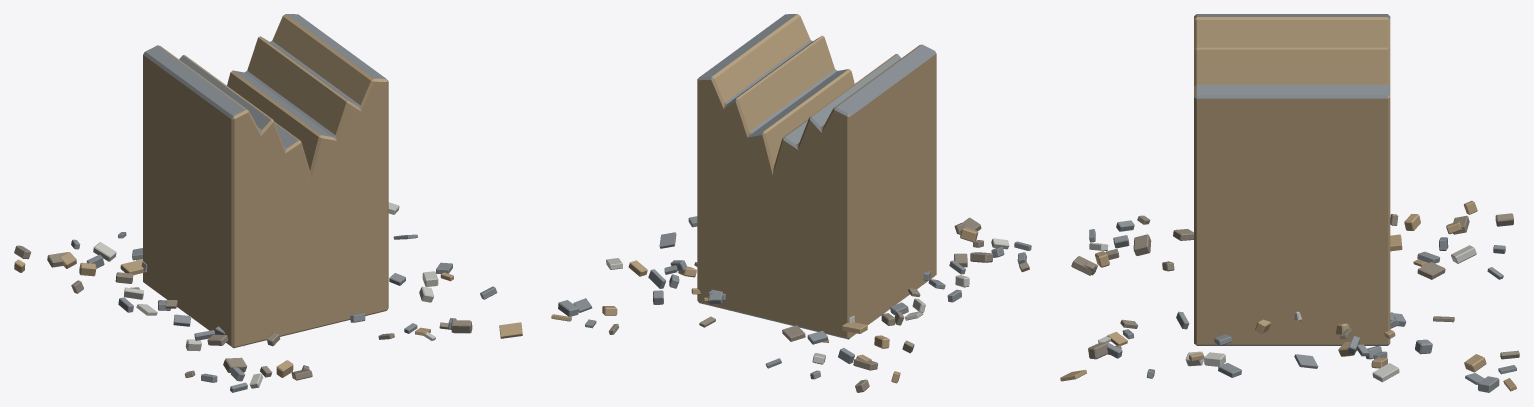
Rendered from Model_CityWallBreachPack.glb.
The picture shows the model from 3 angles, left to right: view 1: azimuth 30°, elevation 25°; view 2: azimuth 150°, elevation 25°; view 3: azimuth 270°, elevation 25°; orthographic projection. The views are drawn at different scales.
Visible parts, largest first — view 1: CityWallBreachShoulderLeft, CityWallBreachShoulderRight, CityWallBreachDebrisFan; view 2: CityWallBreachShoulderLeft, CityWallBreachShoulderRight, CityWallBreachDebrisFan; view 3: CityWallBreachShoulderRight, CityWallBreachShoulderLeft, CityWallBreachDebrisFan.
Part boxes in pixels (x1,y1,x2,y2): CityWallBreachShoulderLeft: (143, 45, 388, 348); CityWallBreachShoulderRight: (143, 14, 388, 347); CityWallBreachDebrisFan: (14, 202, 522, 392); CityWallBreachShoulderLeft: (697, 44, 936, 339); CityWallBreachShoulderRight: (697, 14, 936, 339); CityWallBreachDebrisFan: (551, 216, 1031, 392); CityWallBreachShoulderRight: (1194, 84, 1390, 345); CityWallBreachShoulderLeft: (1194, 14, 1390, 345); CityWallBreachDebrisFan: (1060, 200, 1519, 392).
Bounding box in the file's own units: 16.59 × 10.88 × 17.8.
